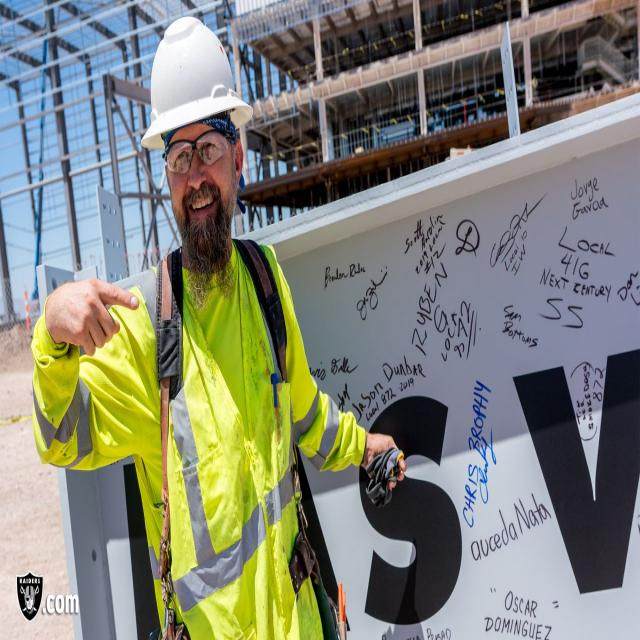Reflective-Jacket: (35, 248, 329, 636)
Safety-Helmet: (140, 14, 254, 153)
